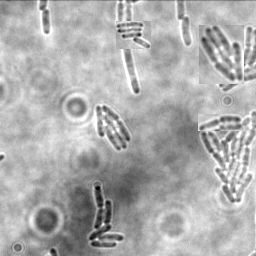Dividing: (123, 1, 142, 95), (198, 114, 242, 131), (41, 8, 52, 35)
Microcolony: (200, 109, 255, 205), (199, 25, 244, 84), (89, 184, 126, 248), (96, 103, 132, 150), (116, 21, 151, 49), (182, 16, 193, 48)
